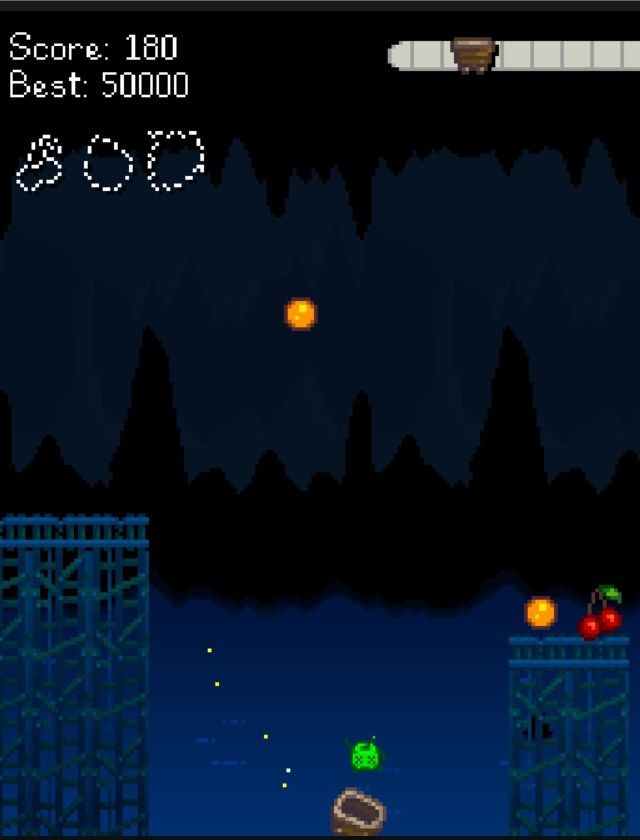cherry: (578, 585, 621, 639)
coins: (285, 298, 317, 330), (525, 597, 556, 629)
minecart: (331, 788, 386, 837)
tracks: (506, 628, 631, 670), (0, 514, 148, 547)
